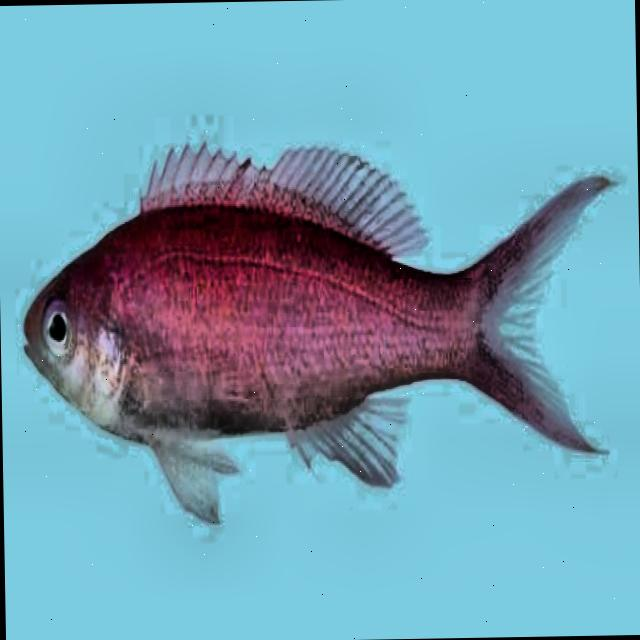fish: (17, 132, 626, 530)
